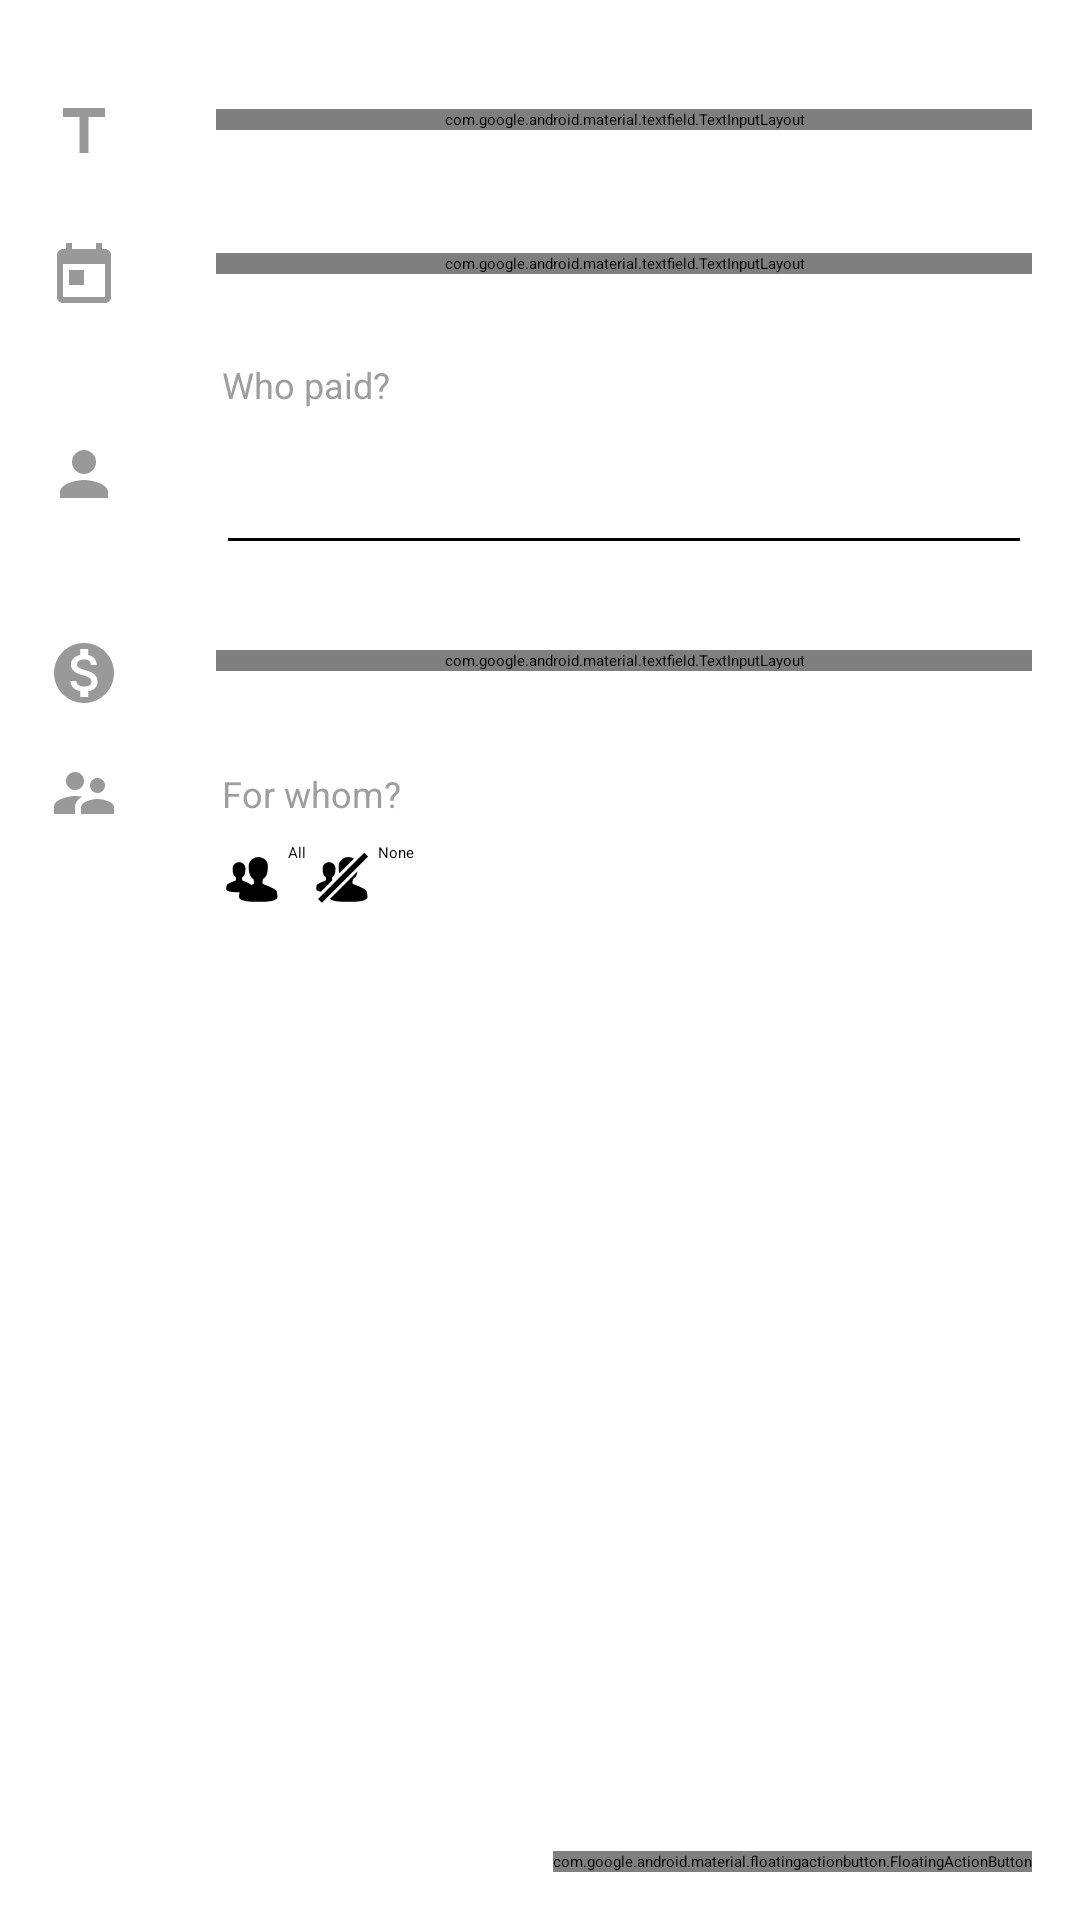

Point at icon controls on the screen. Image size 1080px×1920px, points as (x,y).
dollar: (84,673)
people: (84,793)
person: (84,474)
title: (84,130)
today: (84,273)
